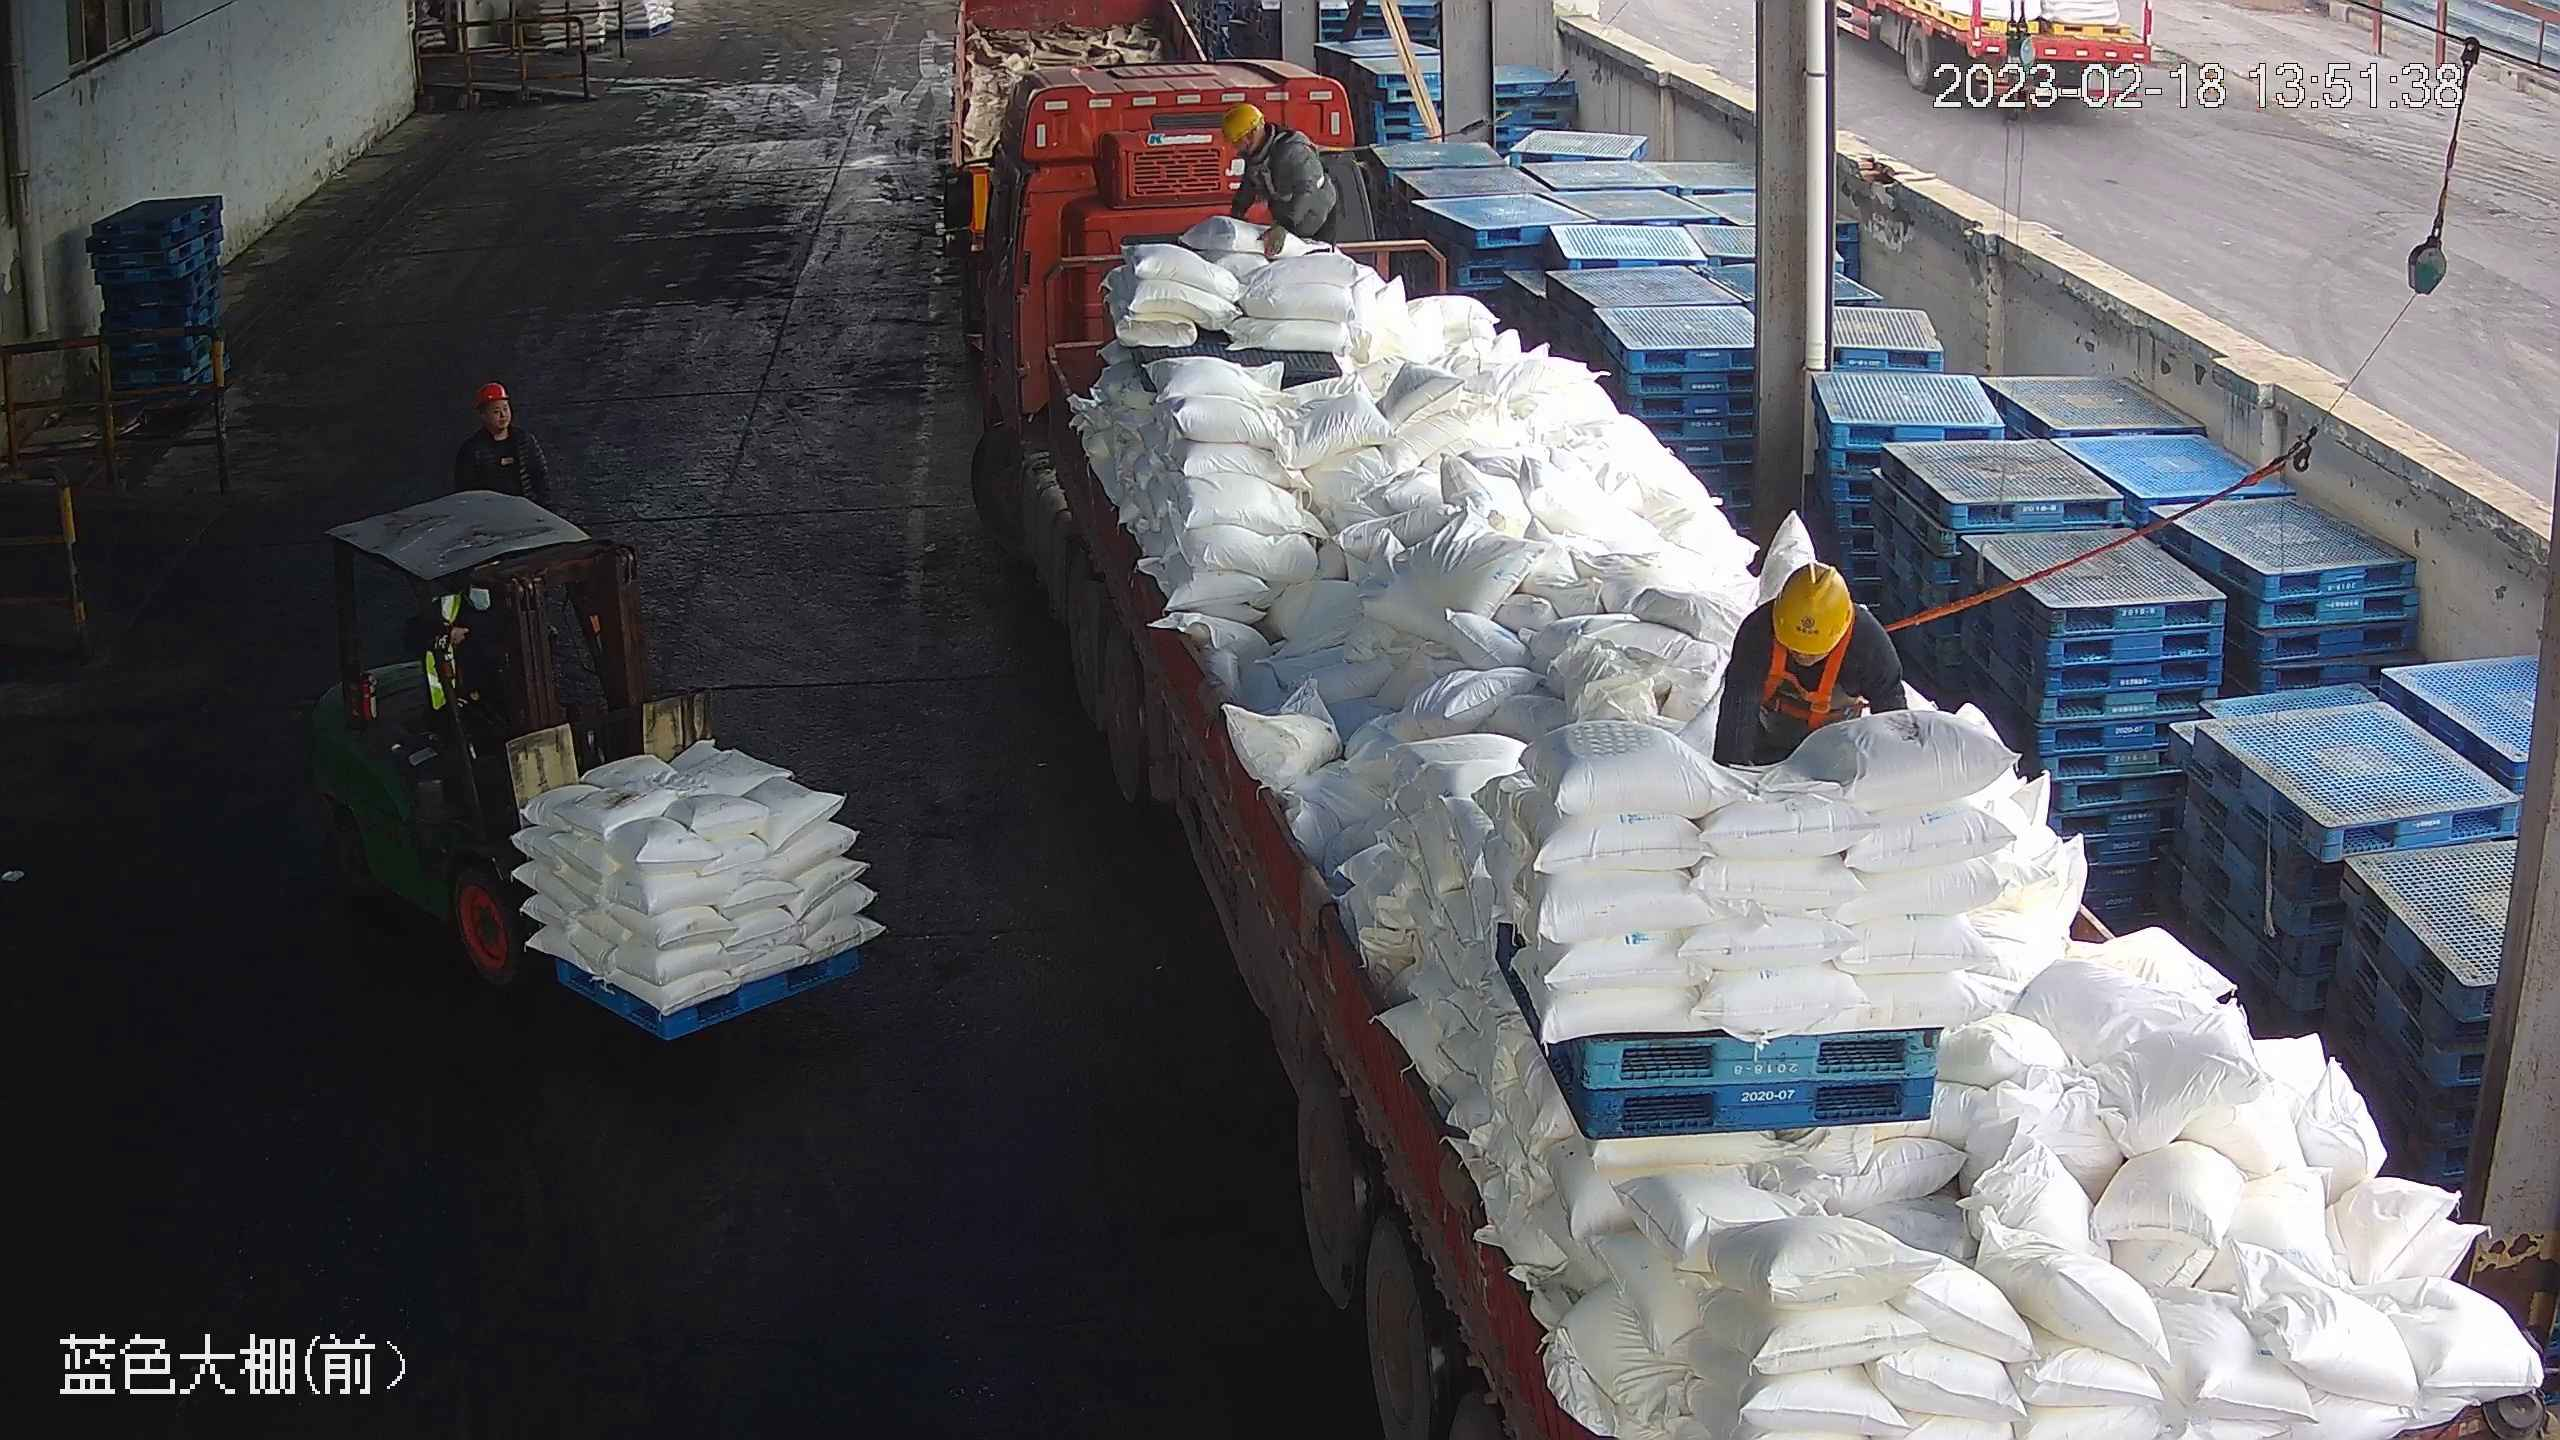belt: (1756, 623, 1864, 727), (1252, 133, 1337, 203)
head: (1708, 566, 1905, 705), (456, 383, 552, 484)
helmet: (1769, 562, 1857, 656), (1222, 101, 1271, 142), (474, 383, 506, 406)
people: (1222, 101, 1339, 266)
truck: (945, 57, 2560, 1440)
